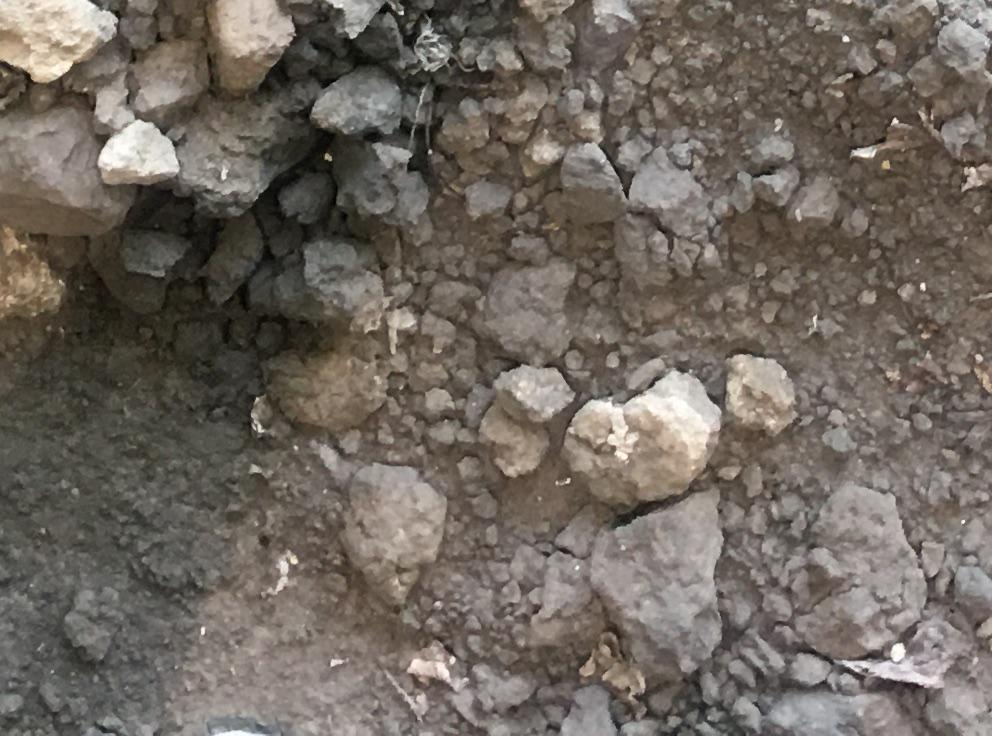block: (590, 496, 728, 676), (791, 483, 920, 660), (563, 369, 719, 507), (165, 95, 313, 220), (3, 109, 143, 234), (338, 462, 449, 612), (1, 1, 118, 83), (210, 1, 292, 88)
